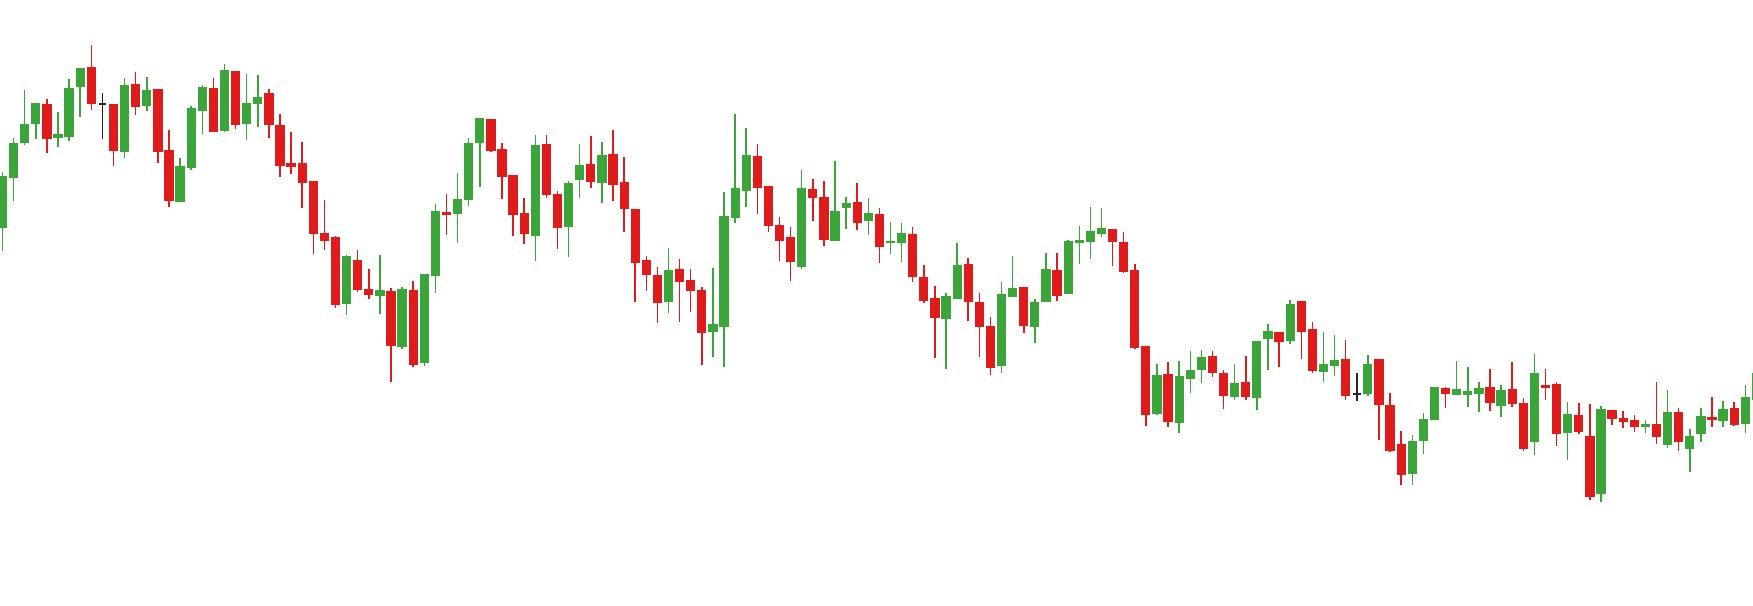buy: (1396, 410, 1608, 501)
sell: (606, 115, 741, 268)
